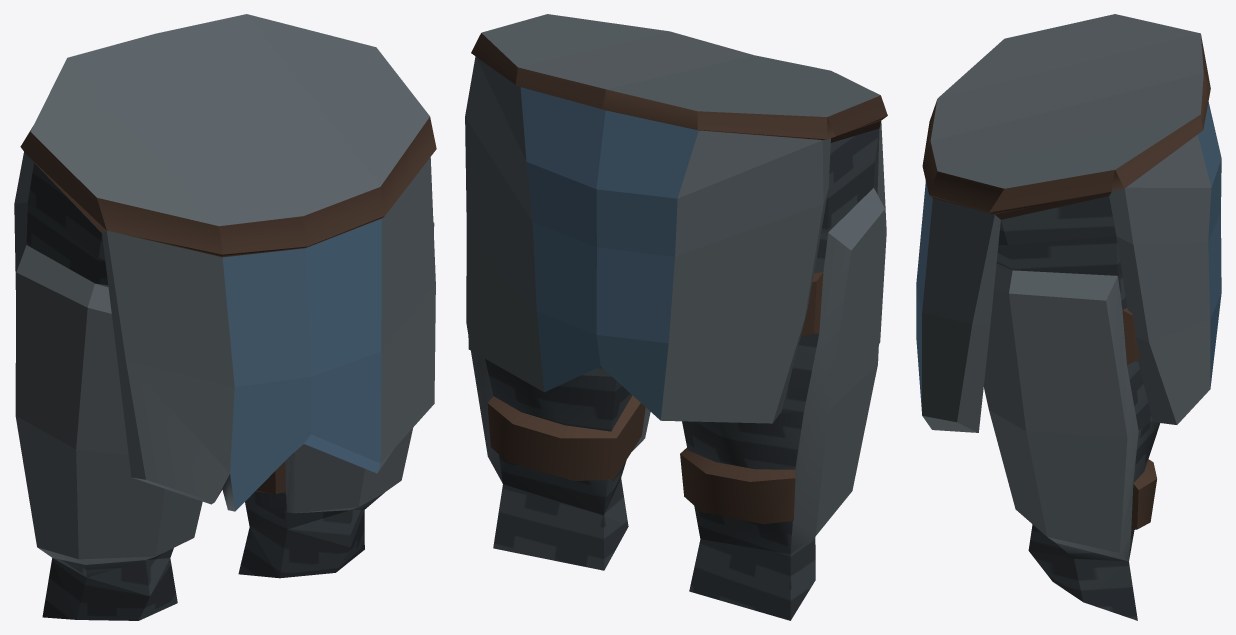
Rendered from Chr_Hips_Male_18_Static.fbx.
3 views of the same model, side by side, from view 1: azimuth 30°, elevation 25°; view 2: azimuth 150°, elevation 25°; view 3: azimuth 270°, elevation 25° (orthographic). The views are drawn at different scales.
Visible parts, largest first — view 1: Chr_Hips_Male_18_Static; view 2: Chr_Hips_Male_18_Static; view 3: Chr_Hips_Male_18_Static.
Part boxes in pixels (x1,y1,x2,y2): Chr_Hips_Male_18_Static: [14, 14, 436, 620]; Chr_Hips_Male_18_Static: [465, 14, 887, 620]; Chr_Hips_Male_18_Static: [916, 14, 1221, 620].
Size of the model in its own units: 0.4364 by 0.5659 by 0.3256.
